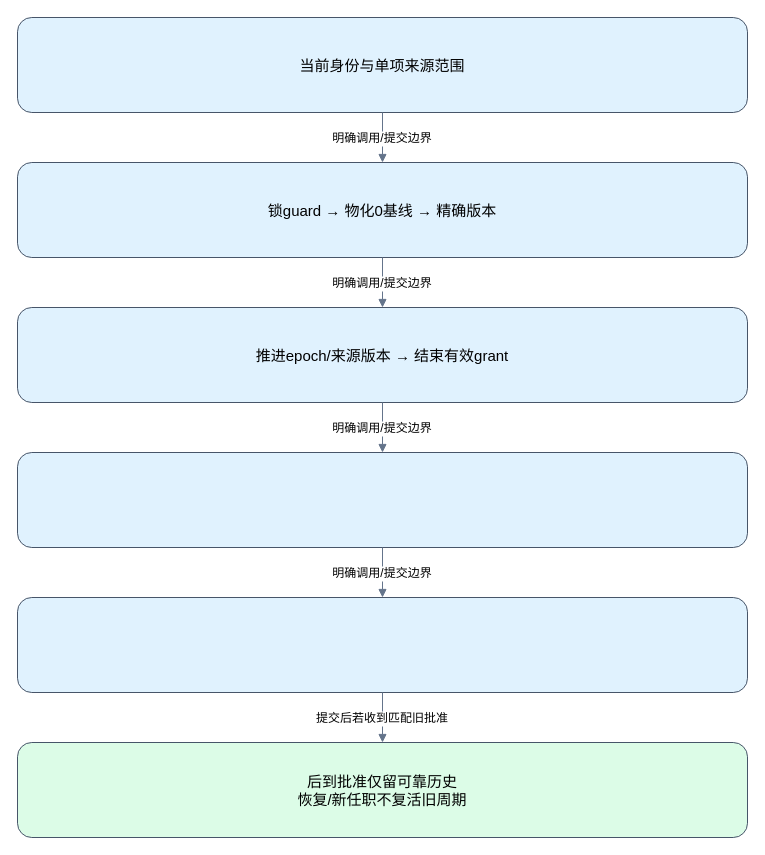
This 765x855 diagram has some shape labels left out. Each missing label, with the box of its shape:
完整审计 + 安全响应 + 幂等同事务: (16, 596, 748, 692)
整份受影响已提交申请INVALIDATED 释放全部claim，其他来源保留: (16, 452, 748, 548)
